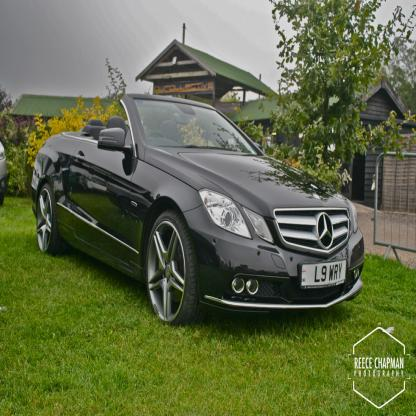Car: (32, 94, 366, 330), (1, 142, 9, 209)
